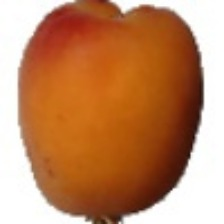apricot: (0, 66, 190, 202)
